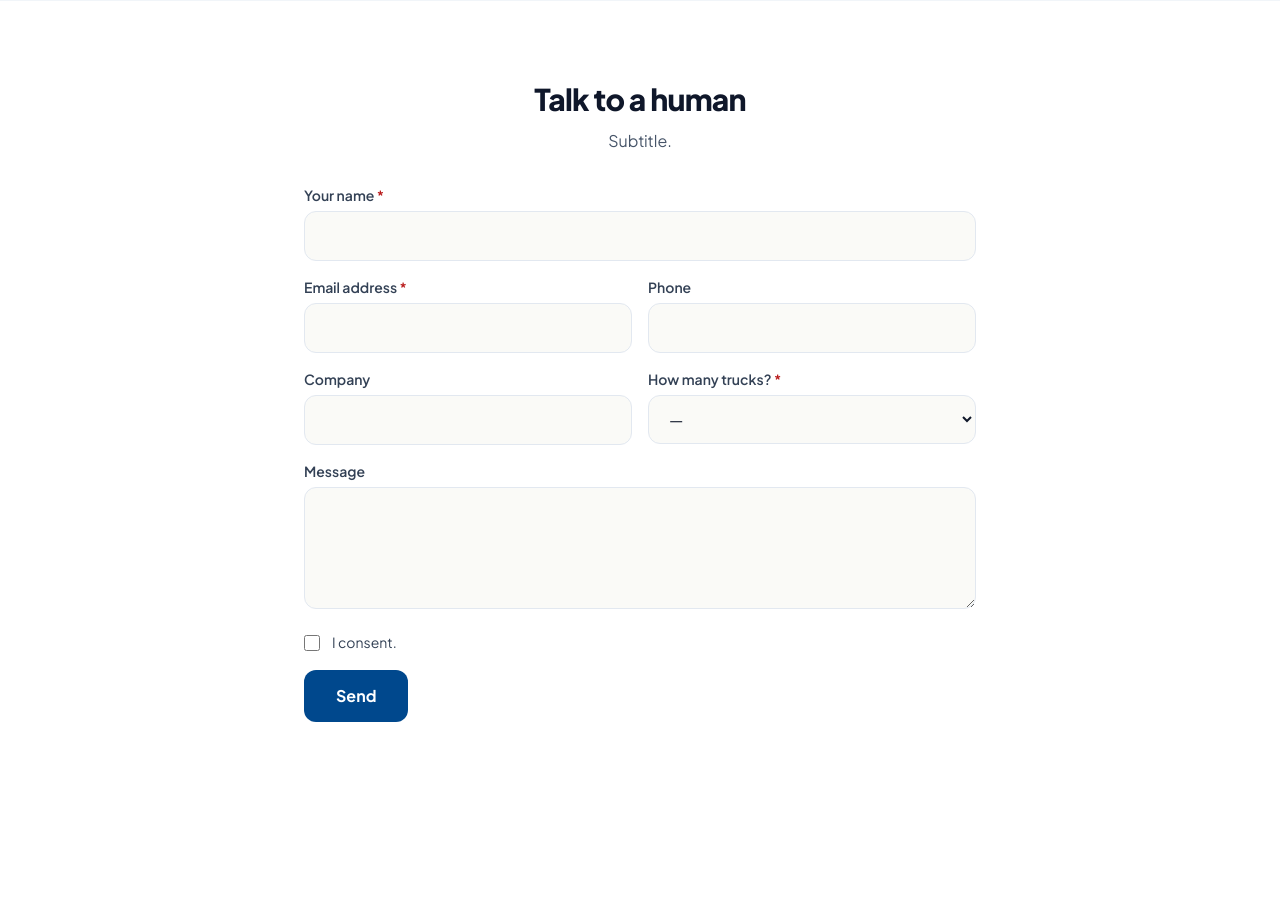
ContactForm › blocks submission when consent is not accepted
Type "Ali" into the field labelled "Your name *" at (640, 236), box [304, 211, 976, 261]
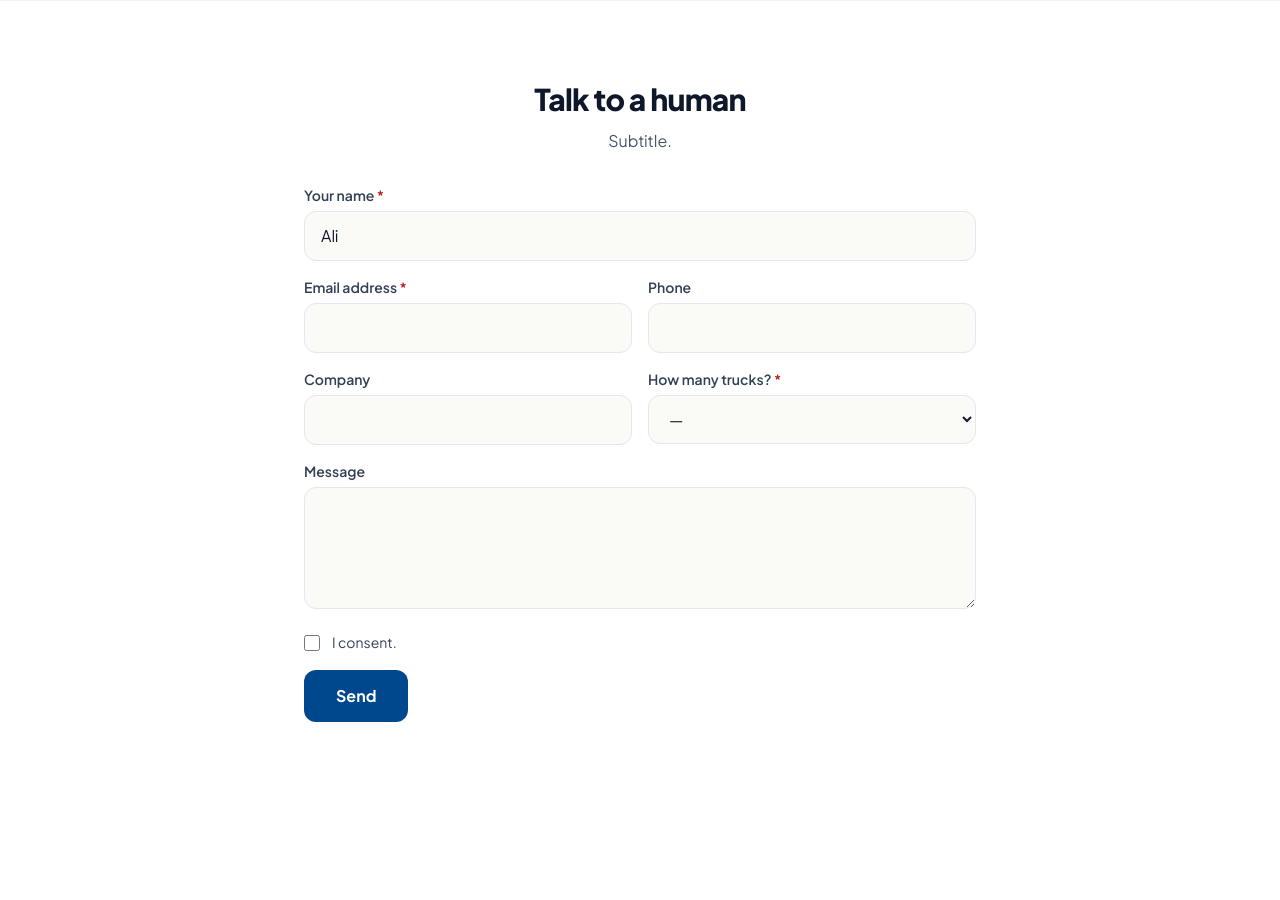
Type "ali@example.com" into the field labelled "Email address *" at (468, 328), box [304, 303, 632, 353]
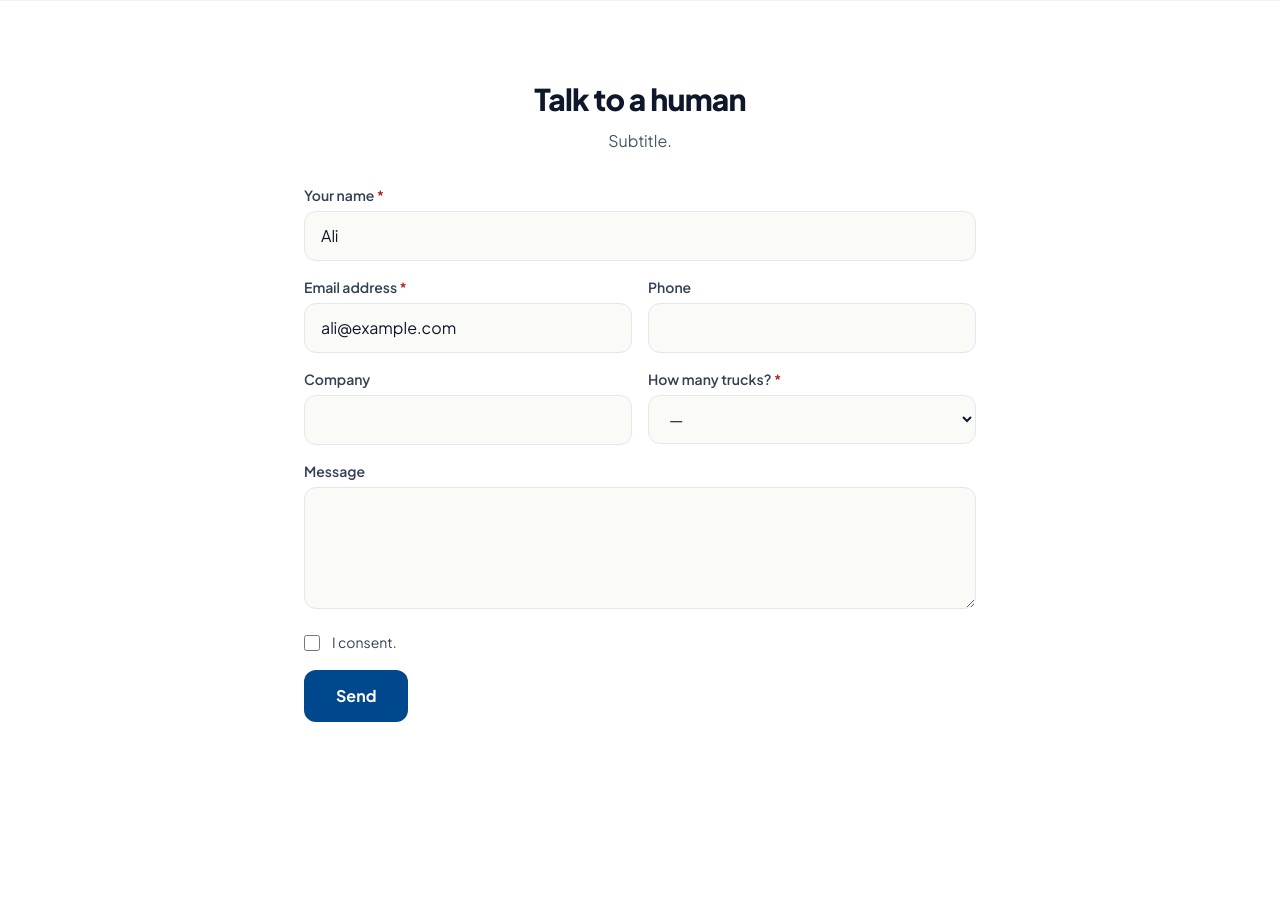
Select "6-25" in the dropdown labelled "How many trucks? *" at (812, 420), box [648, 395, 976, 444]
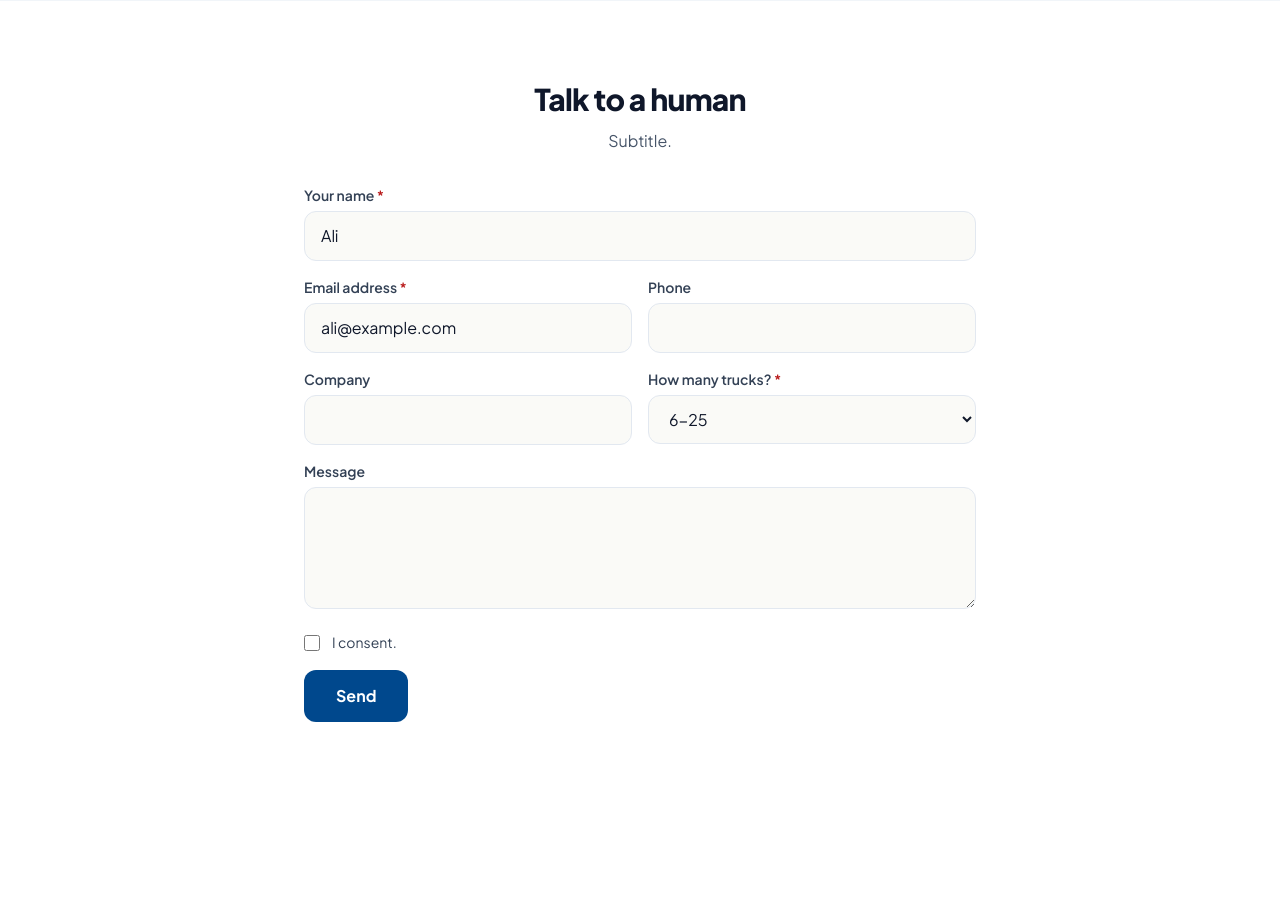
Click the button "Send" at (356, 696), box [304, 670, 408, 722]
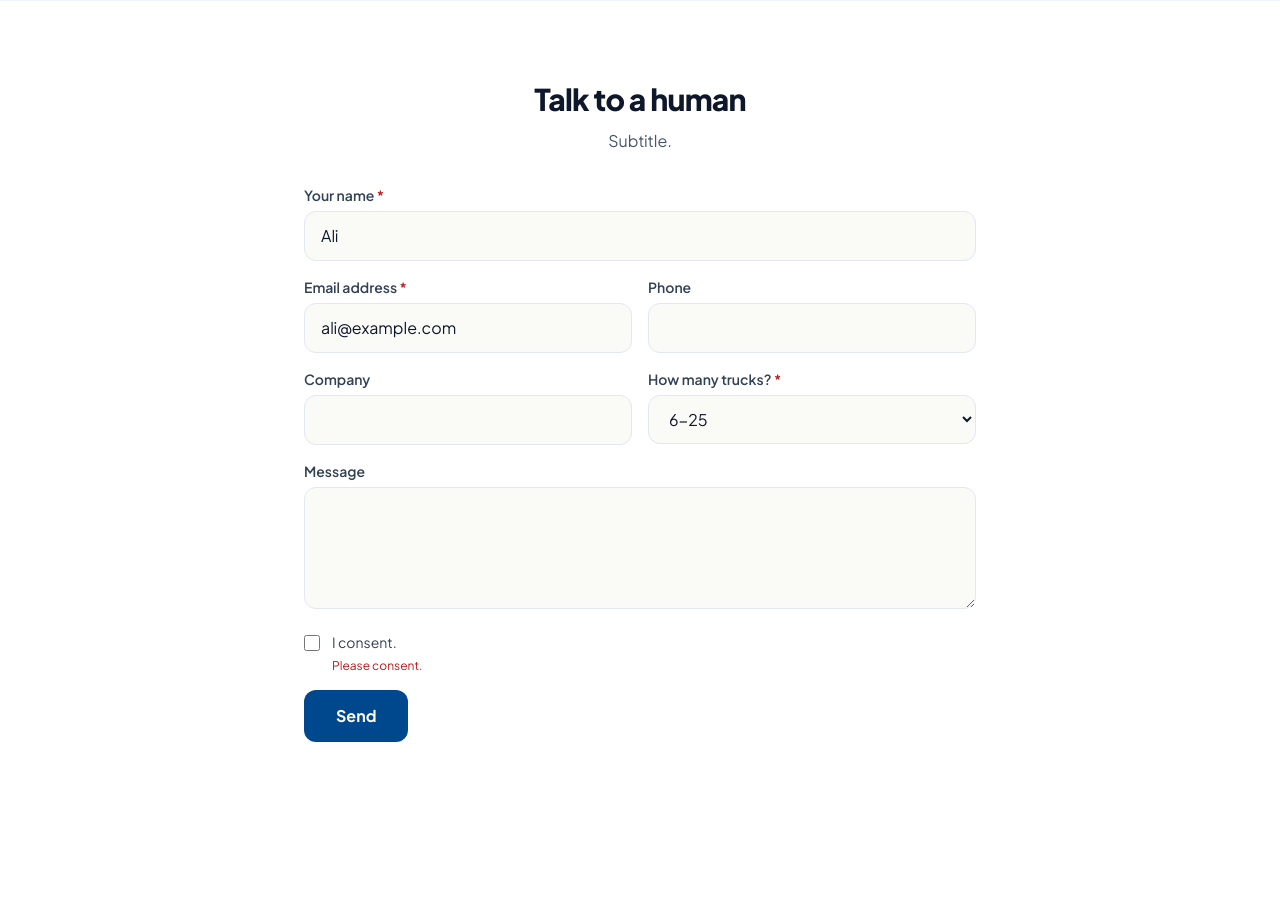
Expected: the text "Please consent." is shown, [332, 658, 422, 673]
